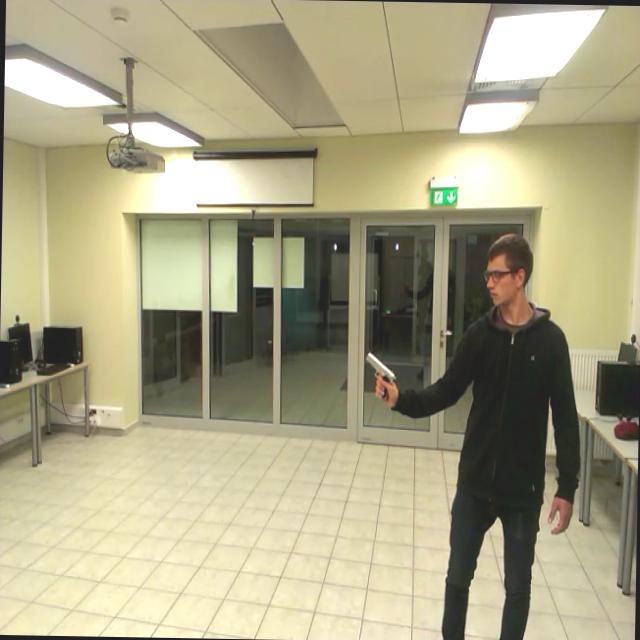handgun: (356, 339, 404, 414)
